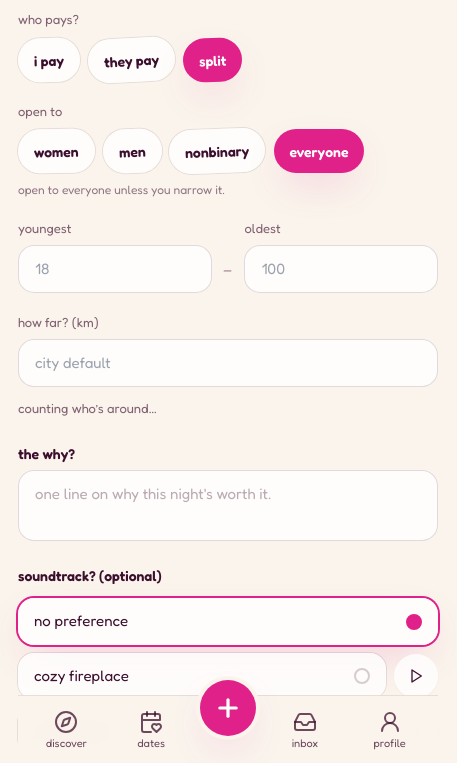
PostNightForm reach line (E10 / D-01) › frames a zero count positively and never disables the publish CTA
(page scrolled)
Type "1" into the number field labelled "how far? (km)".
click(228, 363); type("1")  # box [18,339,438,387]
(page scrolled)
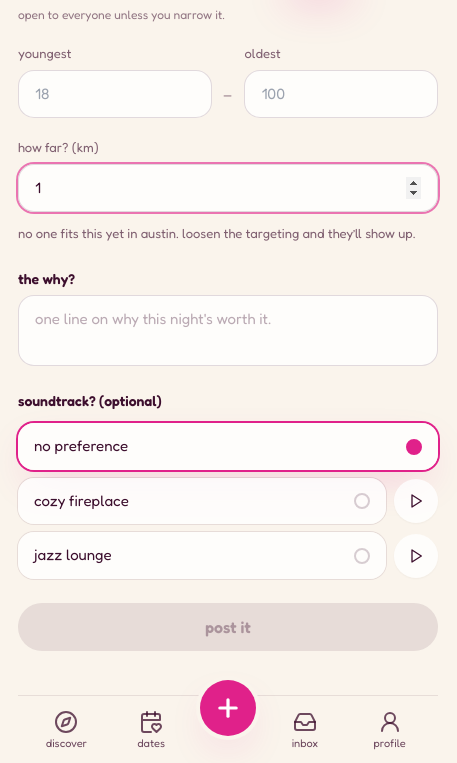
Check: the button "post it" is disabled, box [18,603,438,651]
Check: the text "no one fits this yet in austin" shows "loosen the targeting", box [18,225,416,241]
